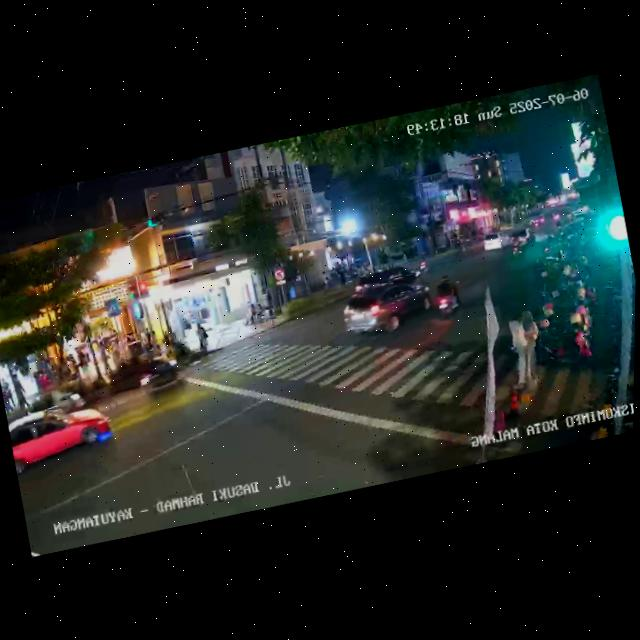car: (5, 393, 117, 480), (335, 271, 442, 345), (350, 261, 423, 297), (479, 226, 519, 255), (507, 226, 537, 249)
motorcycle: (135, 351, 185, 401), (425, 273, 465, 322), (508, 237, 522, 258)
person: (503, 317, 536, 388), (516, 310, 548, 380), (195, 320, 213, 355), (64, 349, 82, 382), (74, 346, 91, 380), (98, 338, 114, 373), (0, 375, 15, 411), (15, 379, 29, 410)
